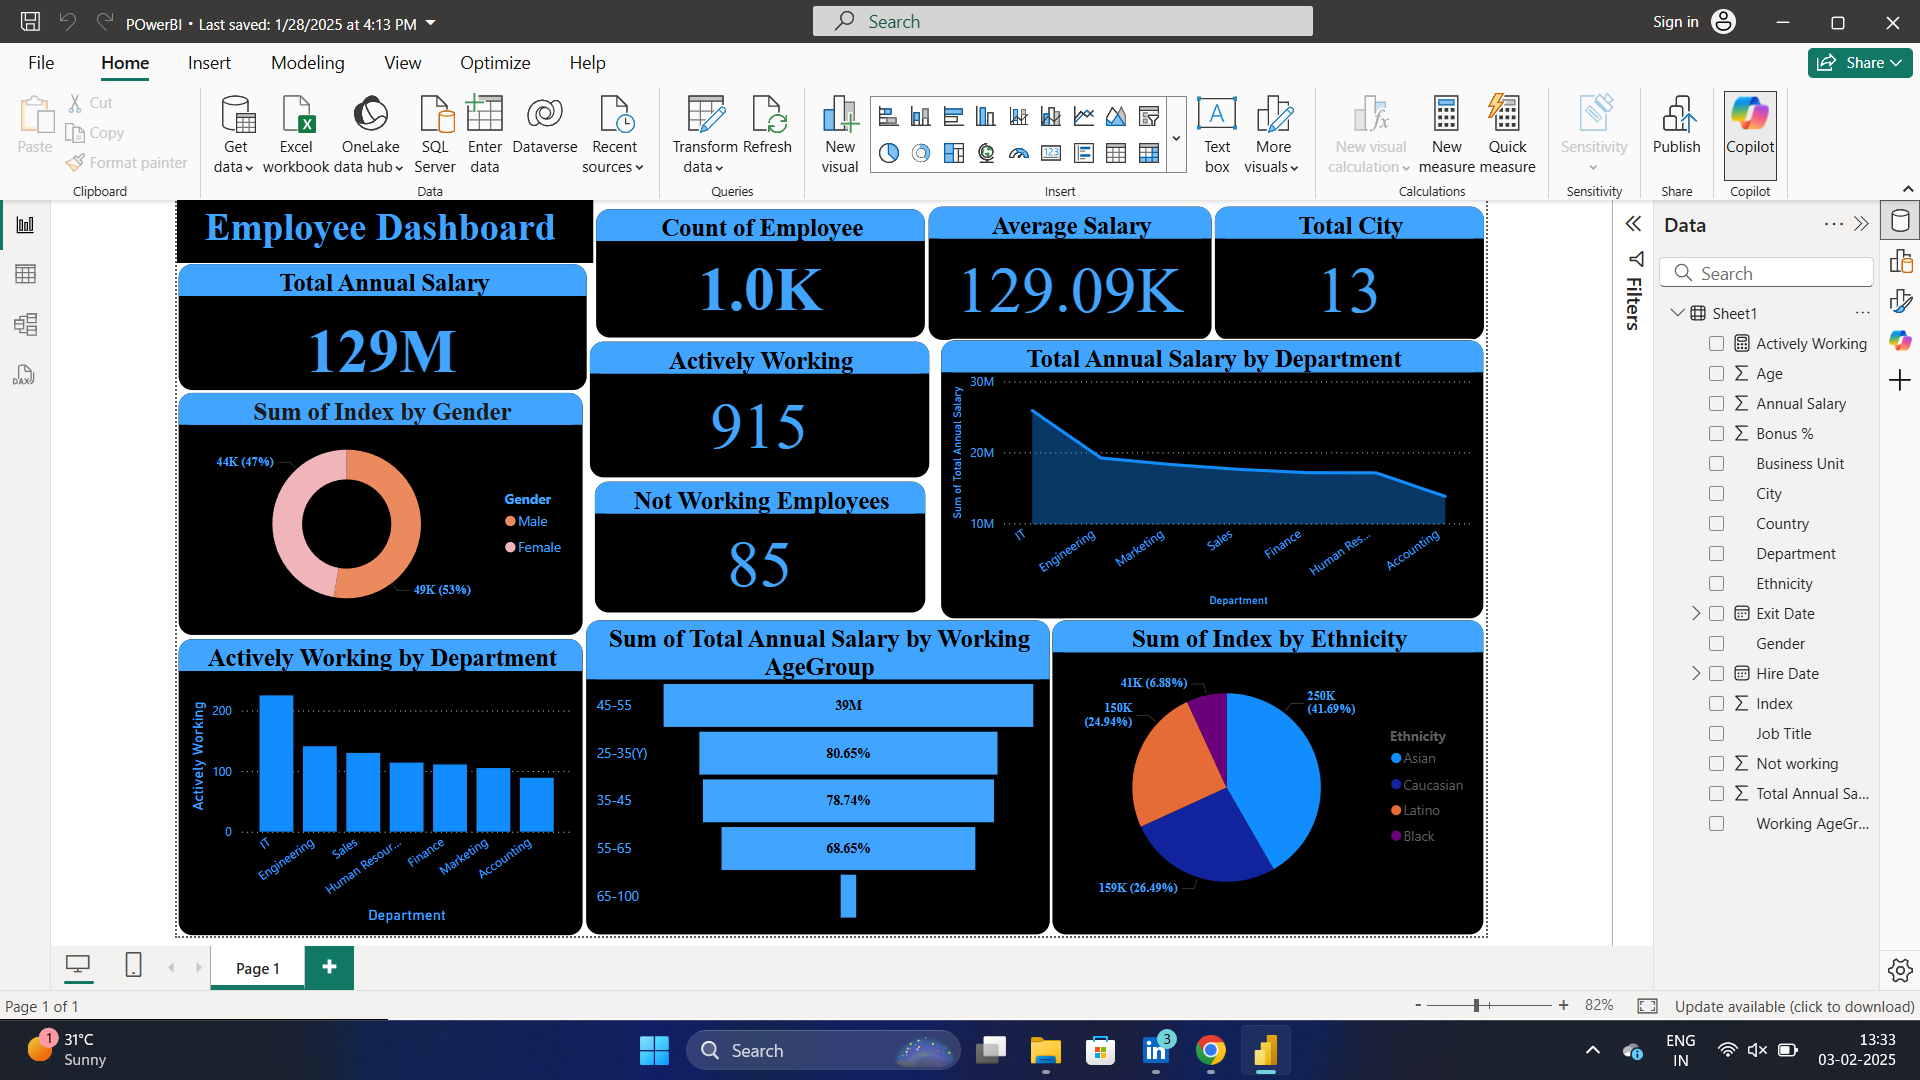

What the dashboard file says about the page in this screenshot:
{"tool":"powerbi","page":{"name":"Page 1","canvas":[1280,720],"ordinal":0},"visuals":[{"type":"card","title":"Count of Employee","fields":{"Values":["CountNonNull(Sheet1.Total Annual Salary)"]},"box":[408.8,7.5,325,128.8],"z":0},{"type":"cardVisual","title":"Total Annual Salary","fields":{"Data":["Sum(Sheet1.Total Annual Salary)"]},"box":[0,61.2,402.5,126.2],"z":1000},{"type":"card","title":"Total City","fields":{"Values":["Count(Sheet1.City)"]},"box":[1013.8,5,266.2,133.8],"z":2000},{"type":"card","title":"Actively Working","fields":{"Values":["Sheet1.Actively Working"]},"box":[402.5,137.5,335,136.2],"z":3000},{"type":"card","title":"Not Working Employees","fields":{"Values":["Sum(Sheet1.Not working)"]},"box":[407.5,273.8,326.2,131.2],"z":4000},{"type":"card","title":"Average Salary","fields":{"Values":["Avg(Sheet1.Total Annual Salary)"]},"box":[733.8,5,280,133.8],"z":5000},{"type":"columnChart","fields":{"Category":["Sheet1.Department"],"Y":["Sheet1.Actively Working"]},"box":[0,427.5,398.8,292.5],"z":6000},{"type":"areaChart","title":"Total Annual Salary by Department","fields":{"Category":["Sheet1.Department"],"Y":["Sum(Sheet1.Total Annual Salary)"]},"box":[746.2,136.2,533.8,275],"z":7000},{"type":"donutChart","fields":{"Y":["Sum(Sheet1.Index)"],"Category":["Sheet1.Gender"]},"box":[0,187.5,398.8,240],"z":8000},{"type":"pieChart","fields":{"Y":["Sum(Sheet1.Index)"],"Category":["Sheet1.Ethnicity"]},"box":[855,410,425,310],"z":9000},{"type":"funnel","fields":{"Category":["Sheet1.Working AgeGroup"],"Y":["Sum(Sheet1.Total Annual Salary)"]},"box":[398.3,410,456.7,310],"z":10000},{"type":"textbox","box":[0,0,407.5,61.2],"z":11000}]}

Visuals, with their boxes on the page's 1280x720 design canvas (x1, y1, x2, y2). These are canvas units, not pixel positions in the 1920x1080 screenshot, which may show the page scaled, cropped or inside an application window:
"Count of Employee" card: 409 8 734 136
"Total Annual Salary" cardVisual: 0 61 402 187
"Total City" card: 1014 5 1280 139
"Actively Working" card: 402 138 738 274
"Not Working Employees" card: 408 274 734 405
"Average Salary" card: 734 5 1014 139
columnChart - Sheet1.Department x Sheet1.Actively Working: 0 428 399 720
"Total Annual Salary by Department" areaChart: 746 136 1280 411
donutChart - Sum(Sheet1.Index) x Sheet1.Gender: 0 188 399 428
pieChart - Sum(Sheet1.Index) x Sheet1.Ethnicity: 855 410 1280 720
funnel - Sheet1.Working AgeGroup x Sum(Sheet1.Total Annual Salary): 398 410 855 720
textbox: 0 0 408 61
